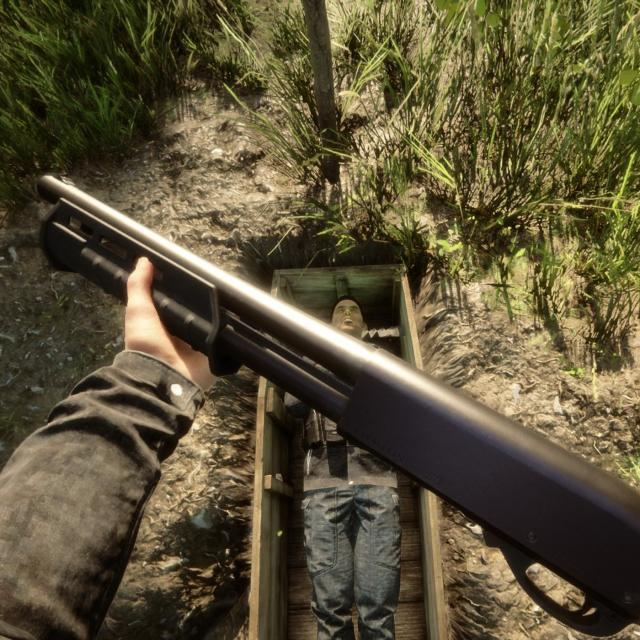shotgun: (10, 172, 640, 633)
